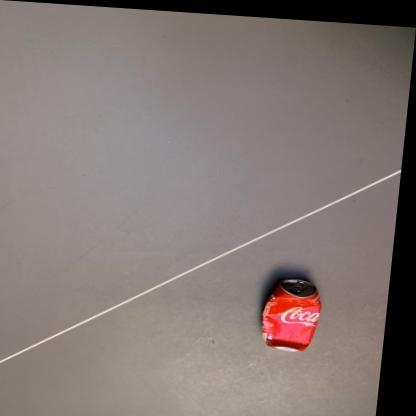trash: (262, 278, 320, 350)
